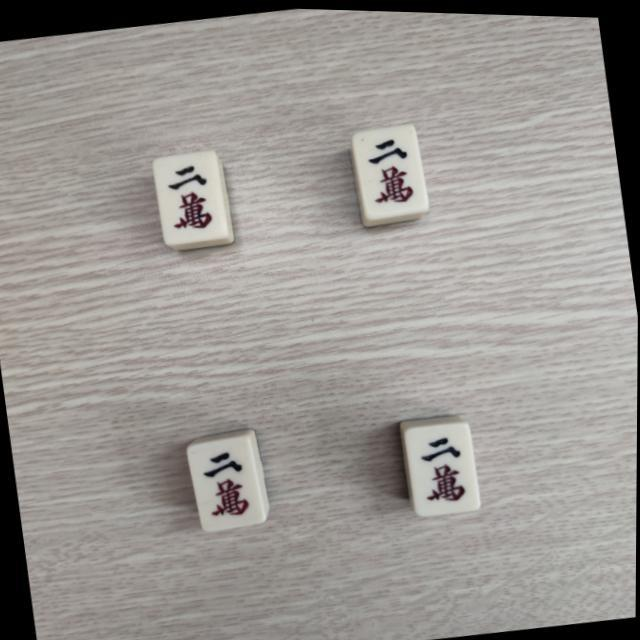sc2: (413, 424, 478, 510), (195, 442, 260, 526), (158, 153, 222, 237), (360, 128, 422, 212)
